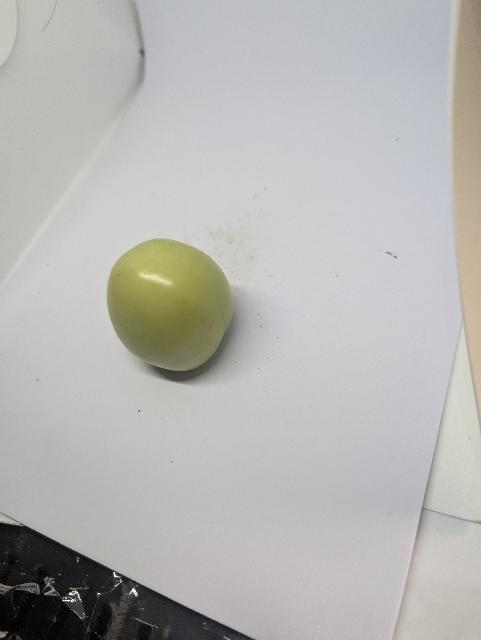green: (105, 236, 238, 375)
